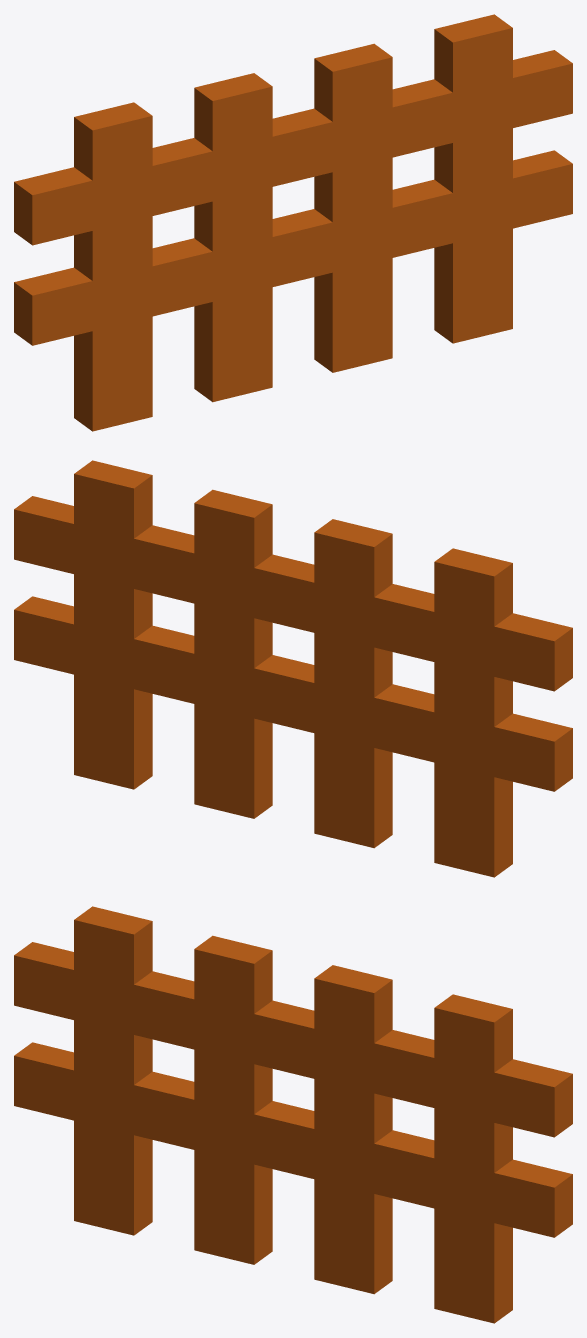
File: barriere.fbx
3 views of the same model, one above another, from view 1: azimuth 30°, elevation 25°; view 2: azimuth 150°, elevation 25°; view 3: azimuth 330°, elevation 25° (orthographic).
Visible parts, largest first — view 1: Cube; view 2: Cube; view 3: Cube.
Part boxes in pixels (x1,y1,x2,y2): Cube: (14,14,572,431); Cube: (14,460,572,877); Cube: (14,906,572,1323).
Size of the model in its own units: 0.6236 by 10.54 by 5.61.
